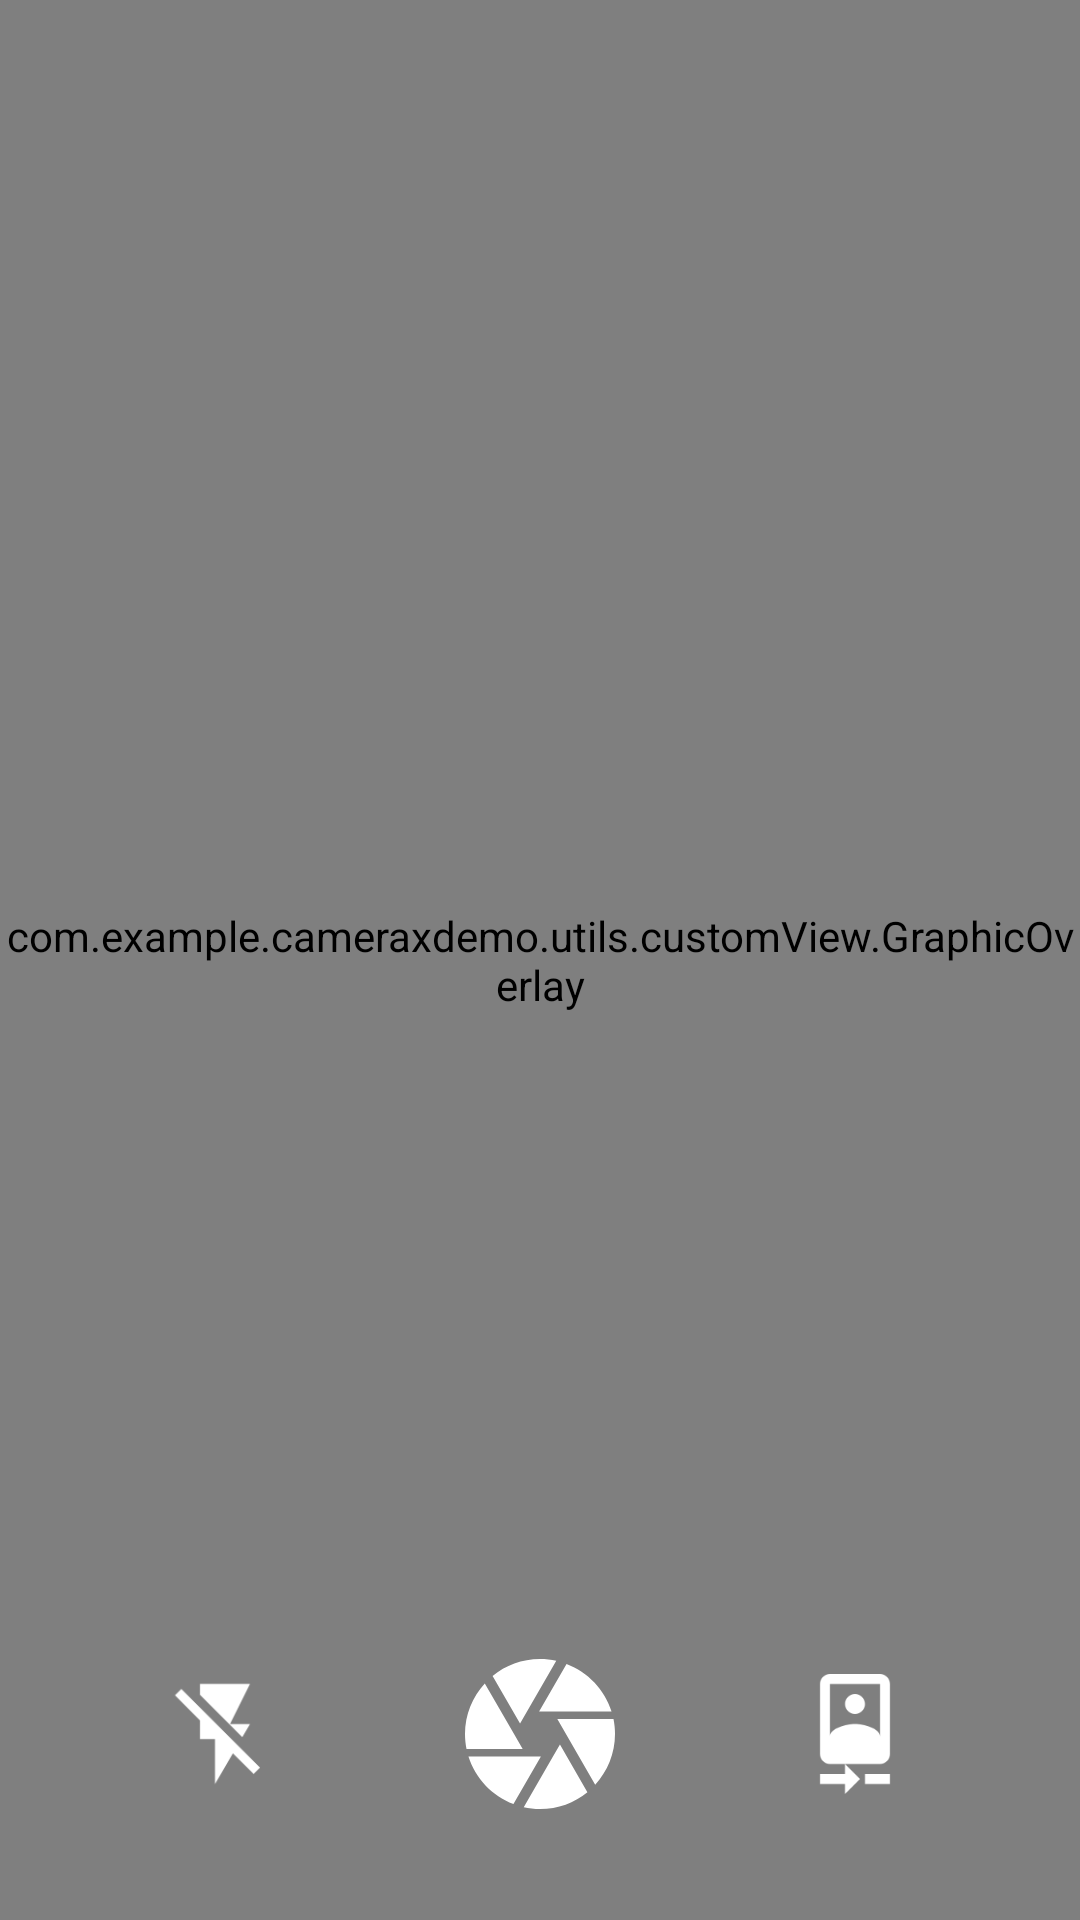

Named icons in this screenshot (1080×1920) and their bounding boxes, rect(x1, y1, x2, y2):
camera front: rect(820, 1674, 890, 1794)
flash off: rect(175, 1683, 260, 1783)
